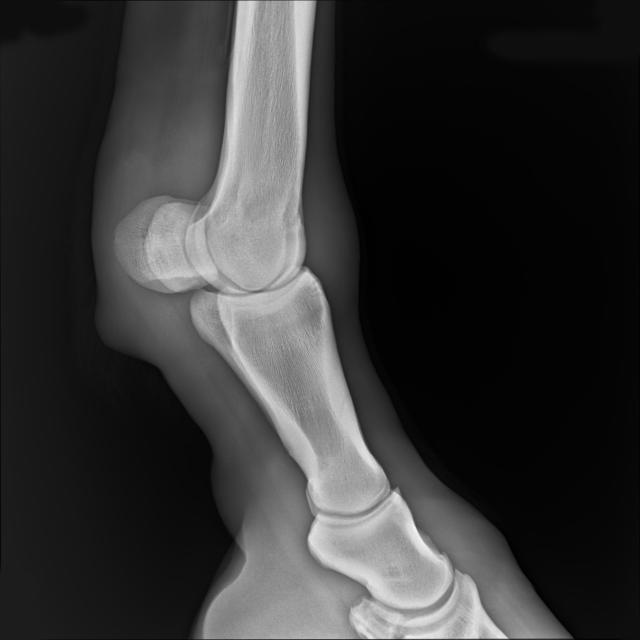joint-ht8A: (103, 138, 372, 390)
